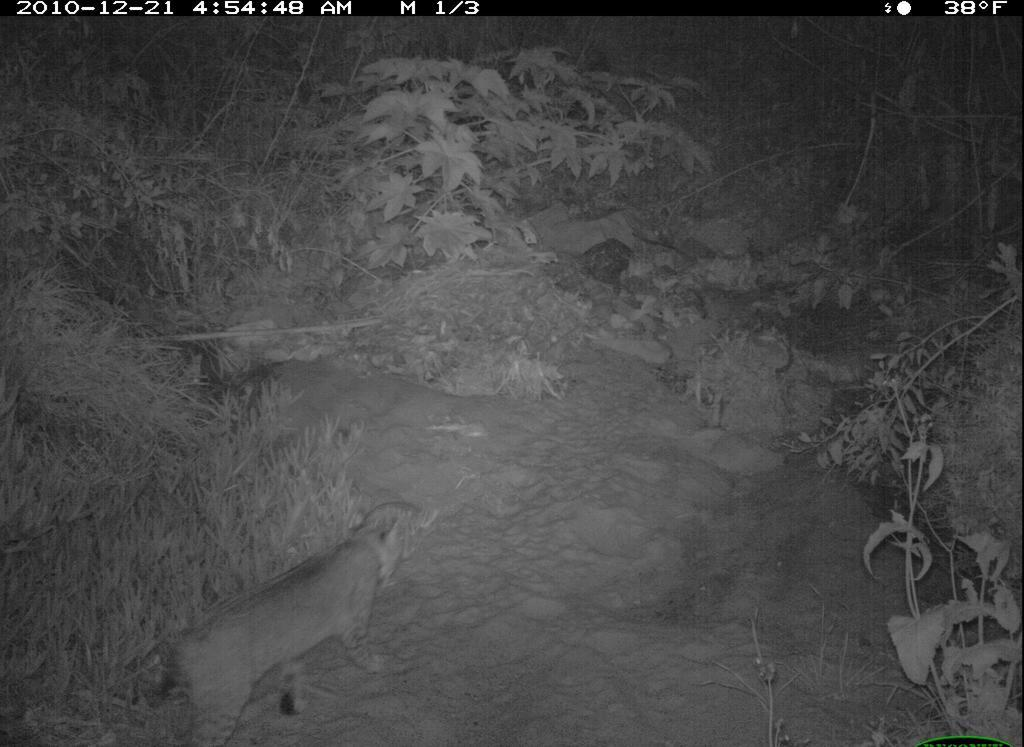bobcat: (140, 513, 424, 738)
